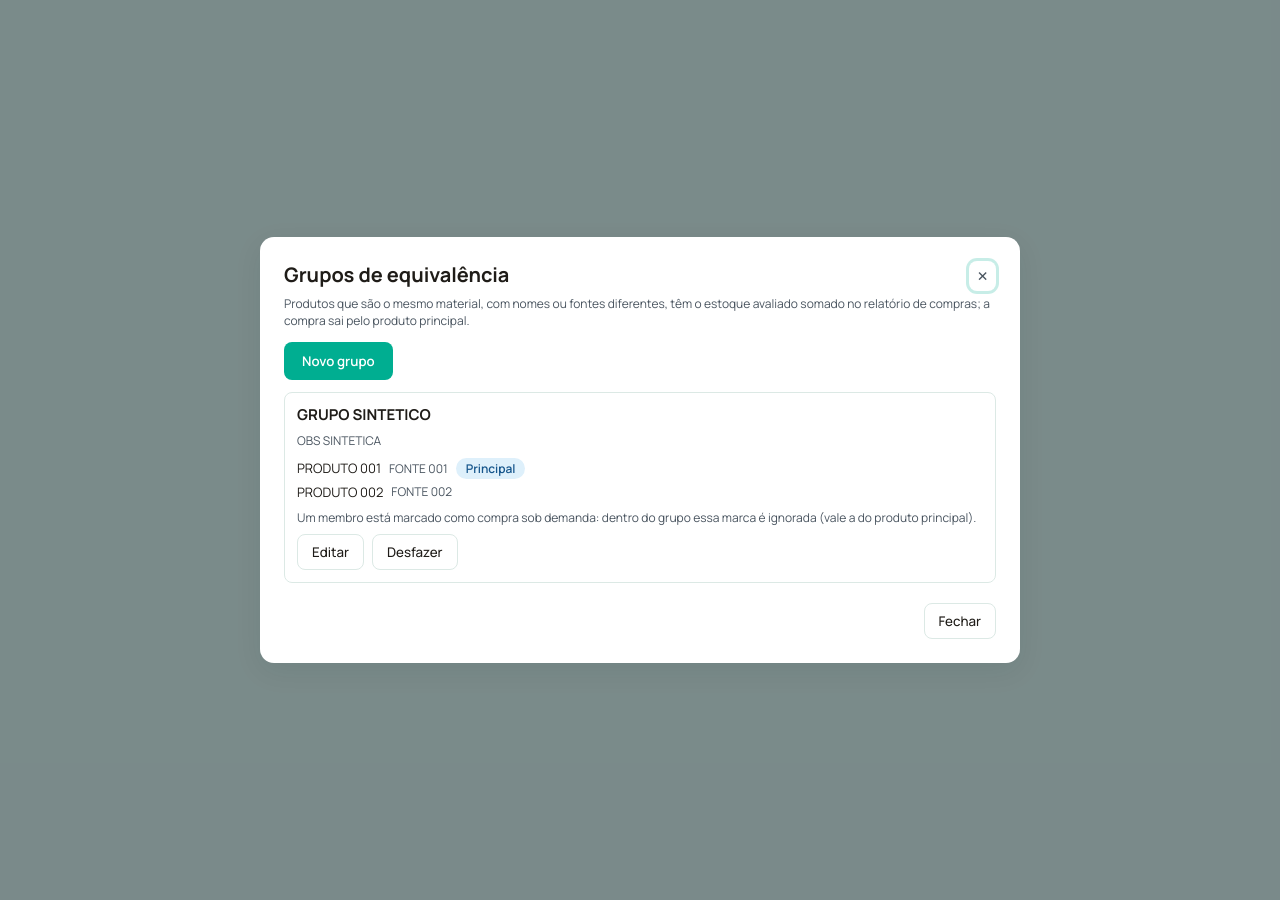
Test: ForecastGruposModal - criar › tirar o principal da selecao volta o principal para "automatico"
Click the button "Novo grupo" at point(338, 361), box [284, 342, 393, 380]
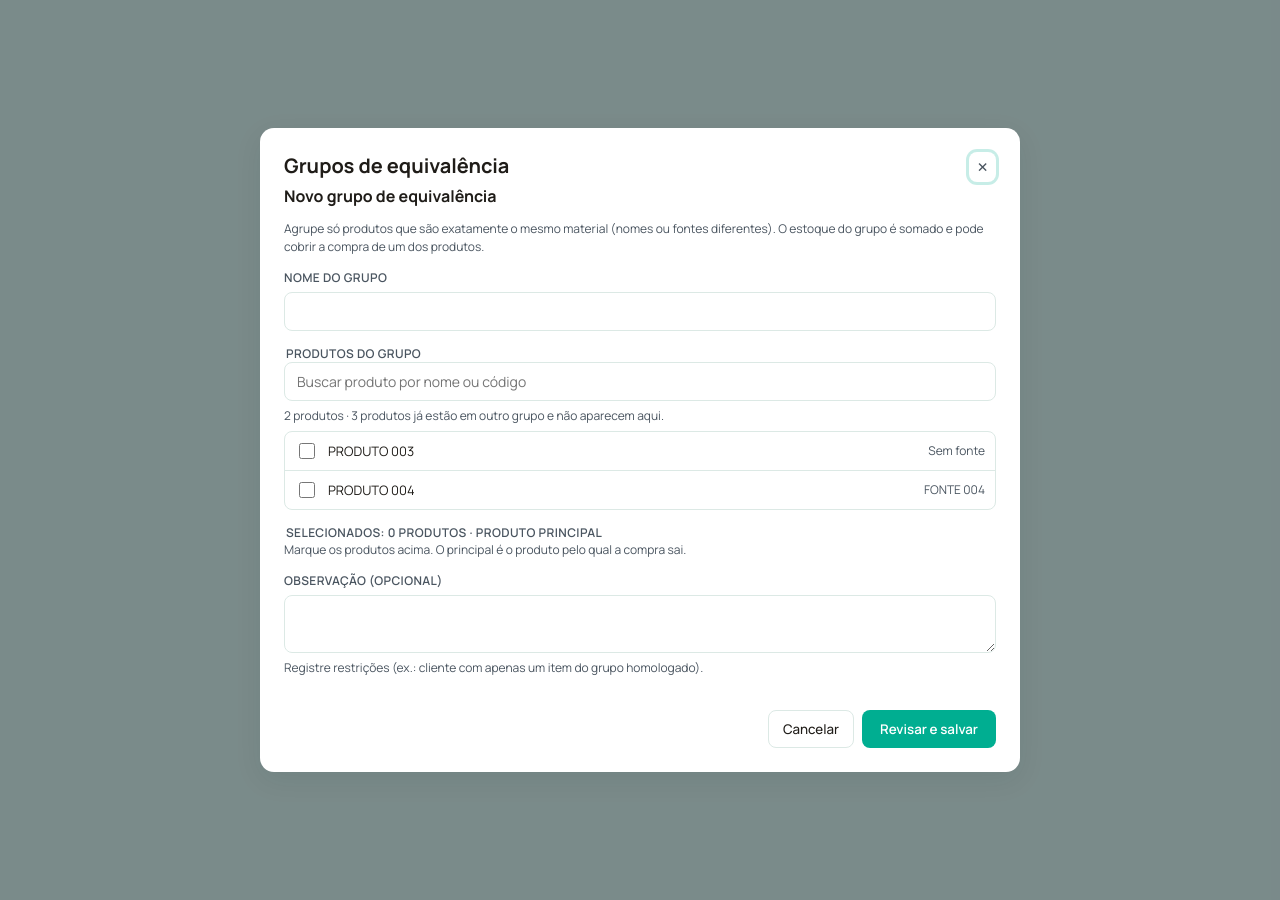
Click the checkbox labelled "PRODUTO 003 Sem fonte" at point(307, 451), box [299, 443, 315, 459]
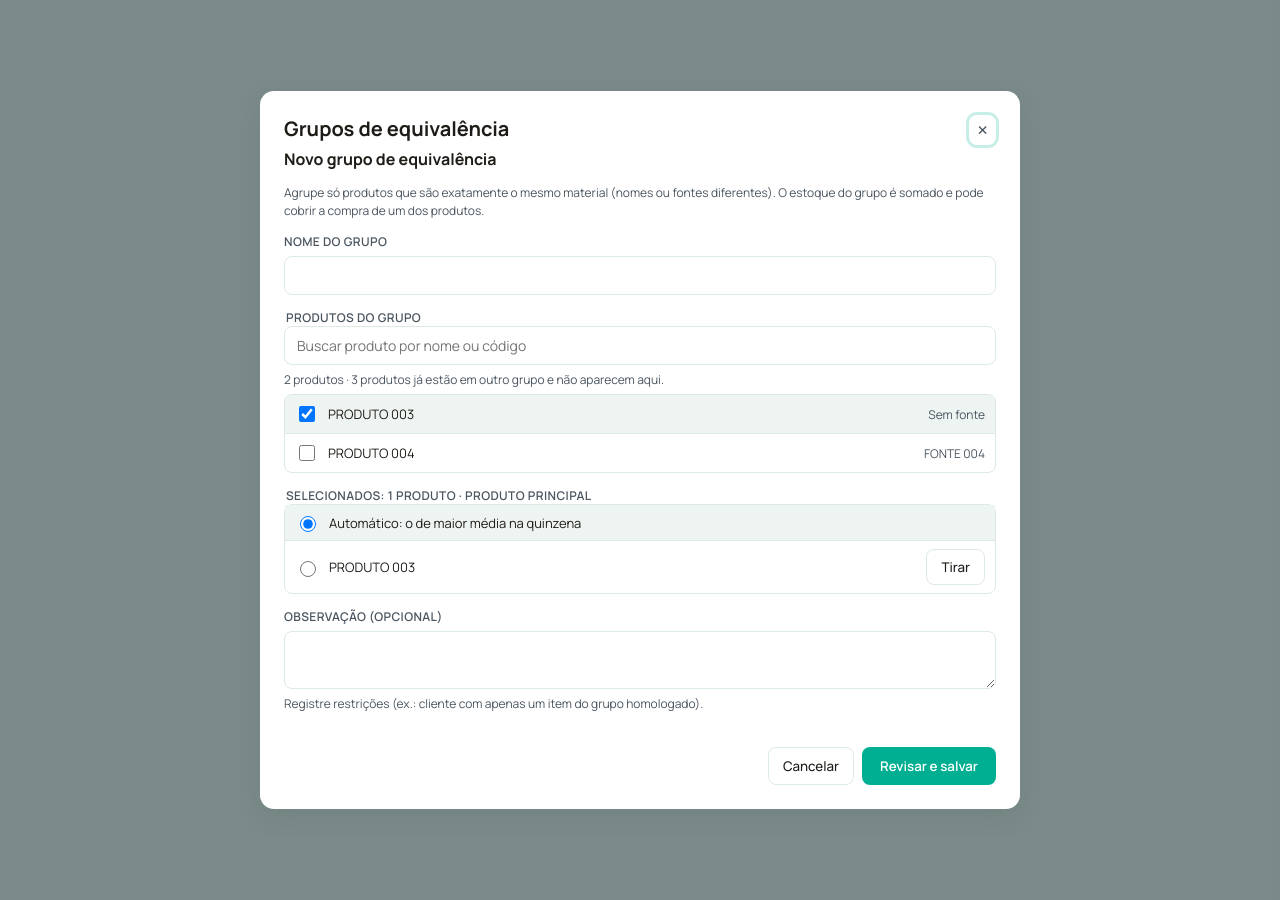
Click the checkbox labelled "PRODUTO 004 FONTE 004" at point(307, 453), box [299, 445, 315, 461]
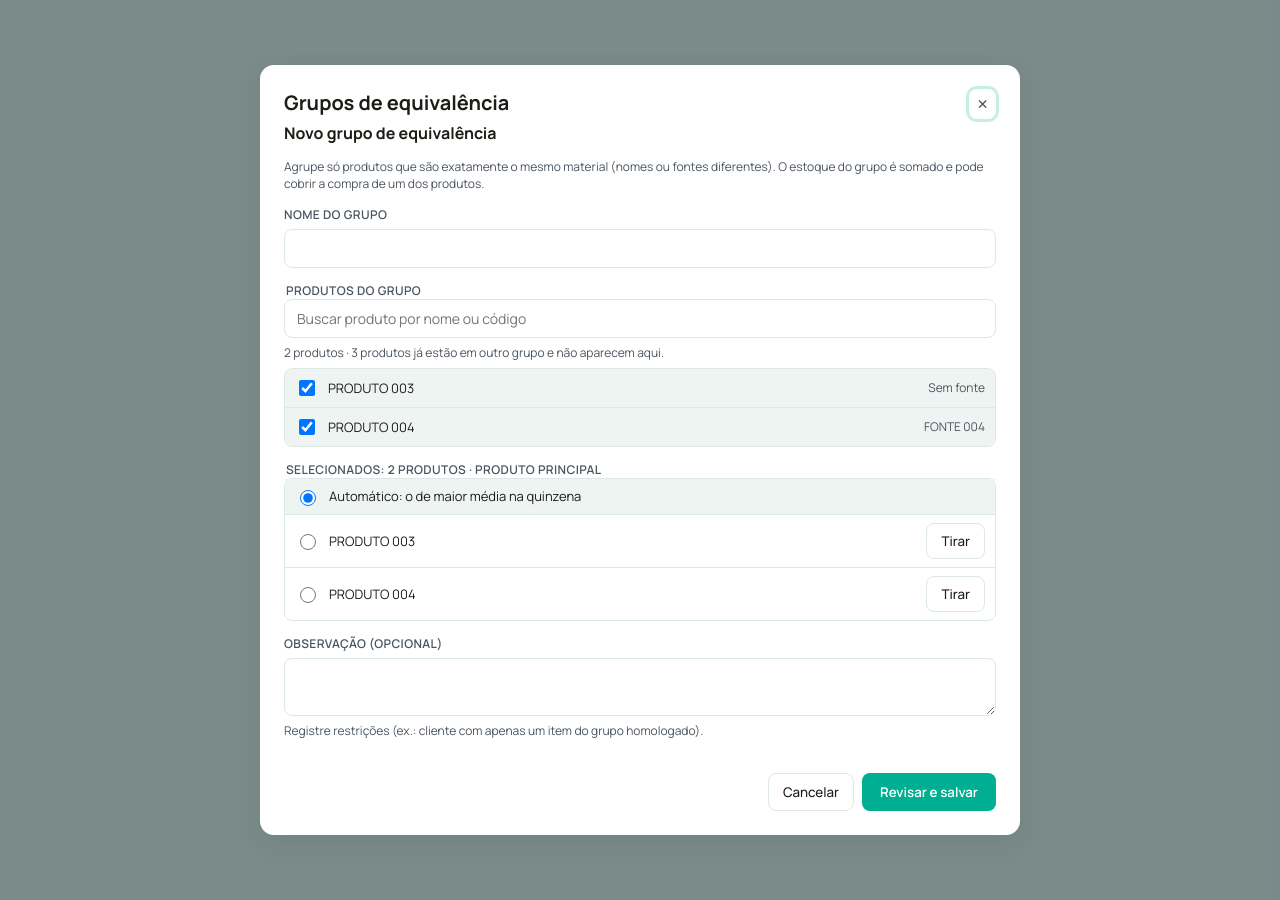
Click the radio button named "PRODUTO 003 como produto principal" at point(308, 542), box [300, 534, 316, 550]
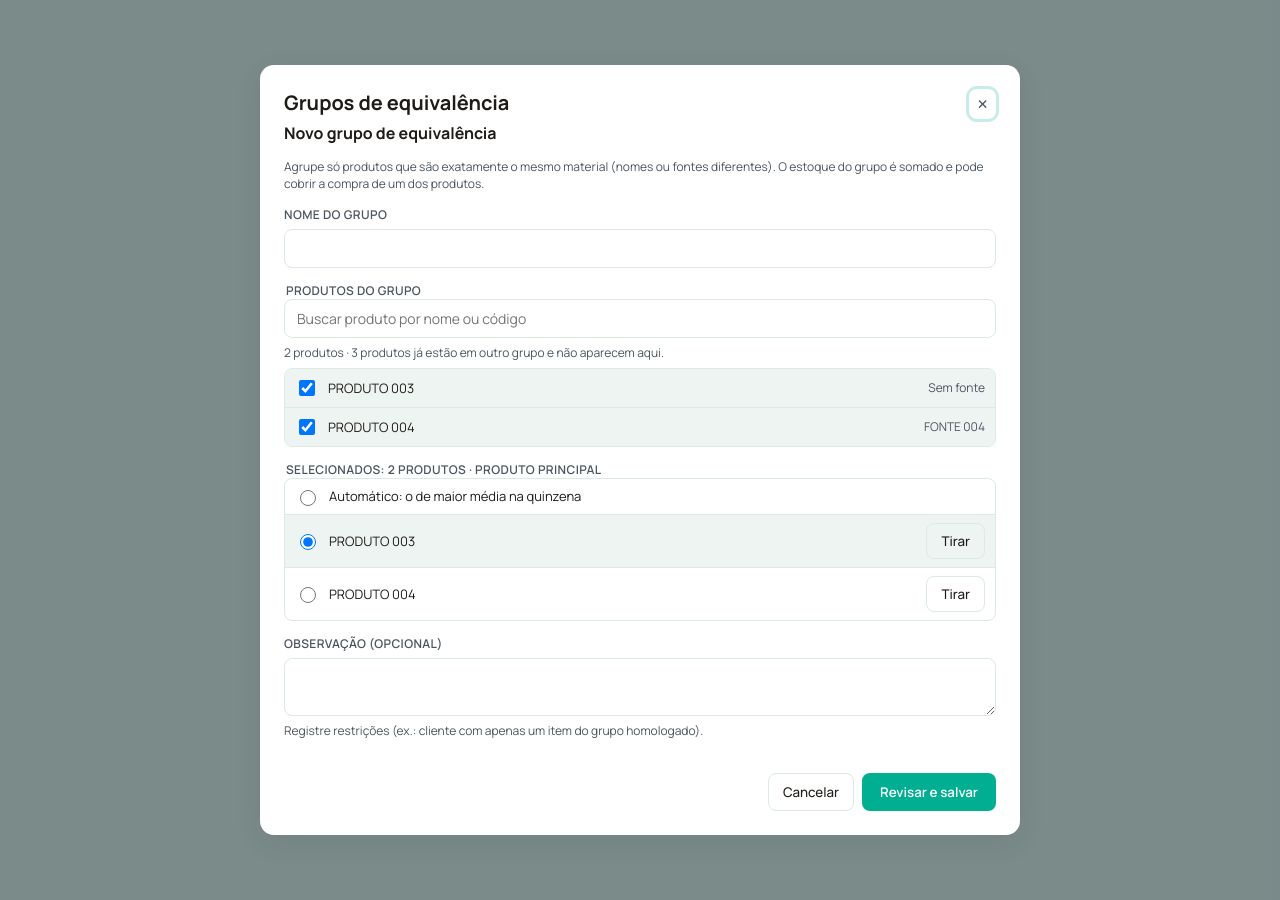
Check: the radio button named "PRODUTO 003 como produto principal" is checked, box [300, 534, 316, 550]
Click the button with aria-label "Tirar PRODUTO 003 do grupo" at point(956, 541), box [926, 523, 985, 559]
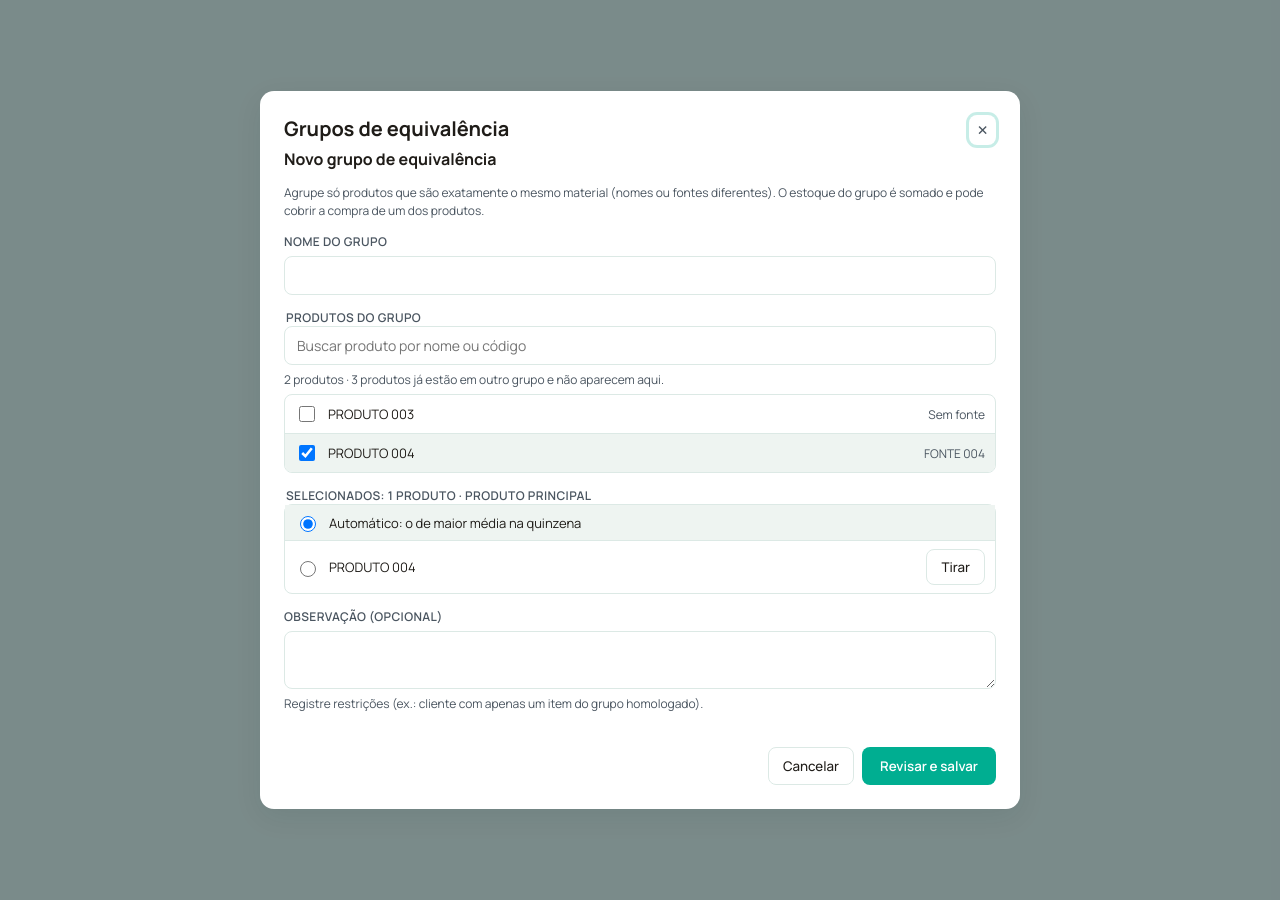
Check: the radio button labelled "Automático: o de maior média na quinzena" is checked, box [300, 516, 316, 532]
